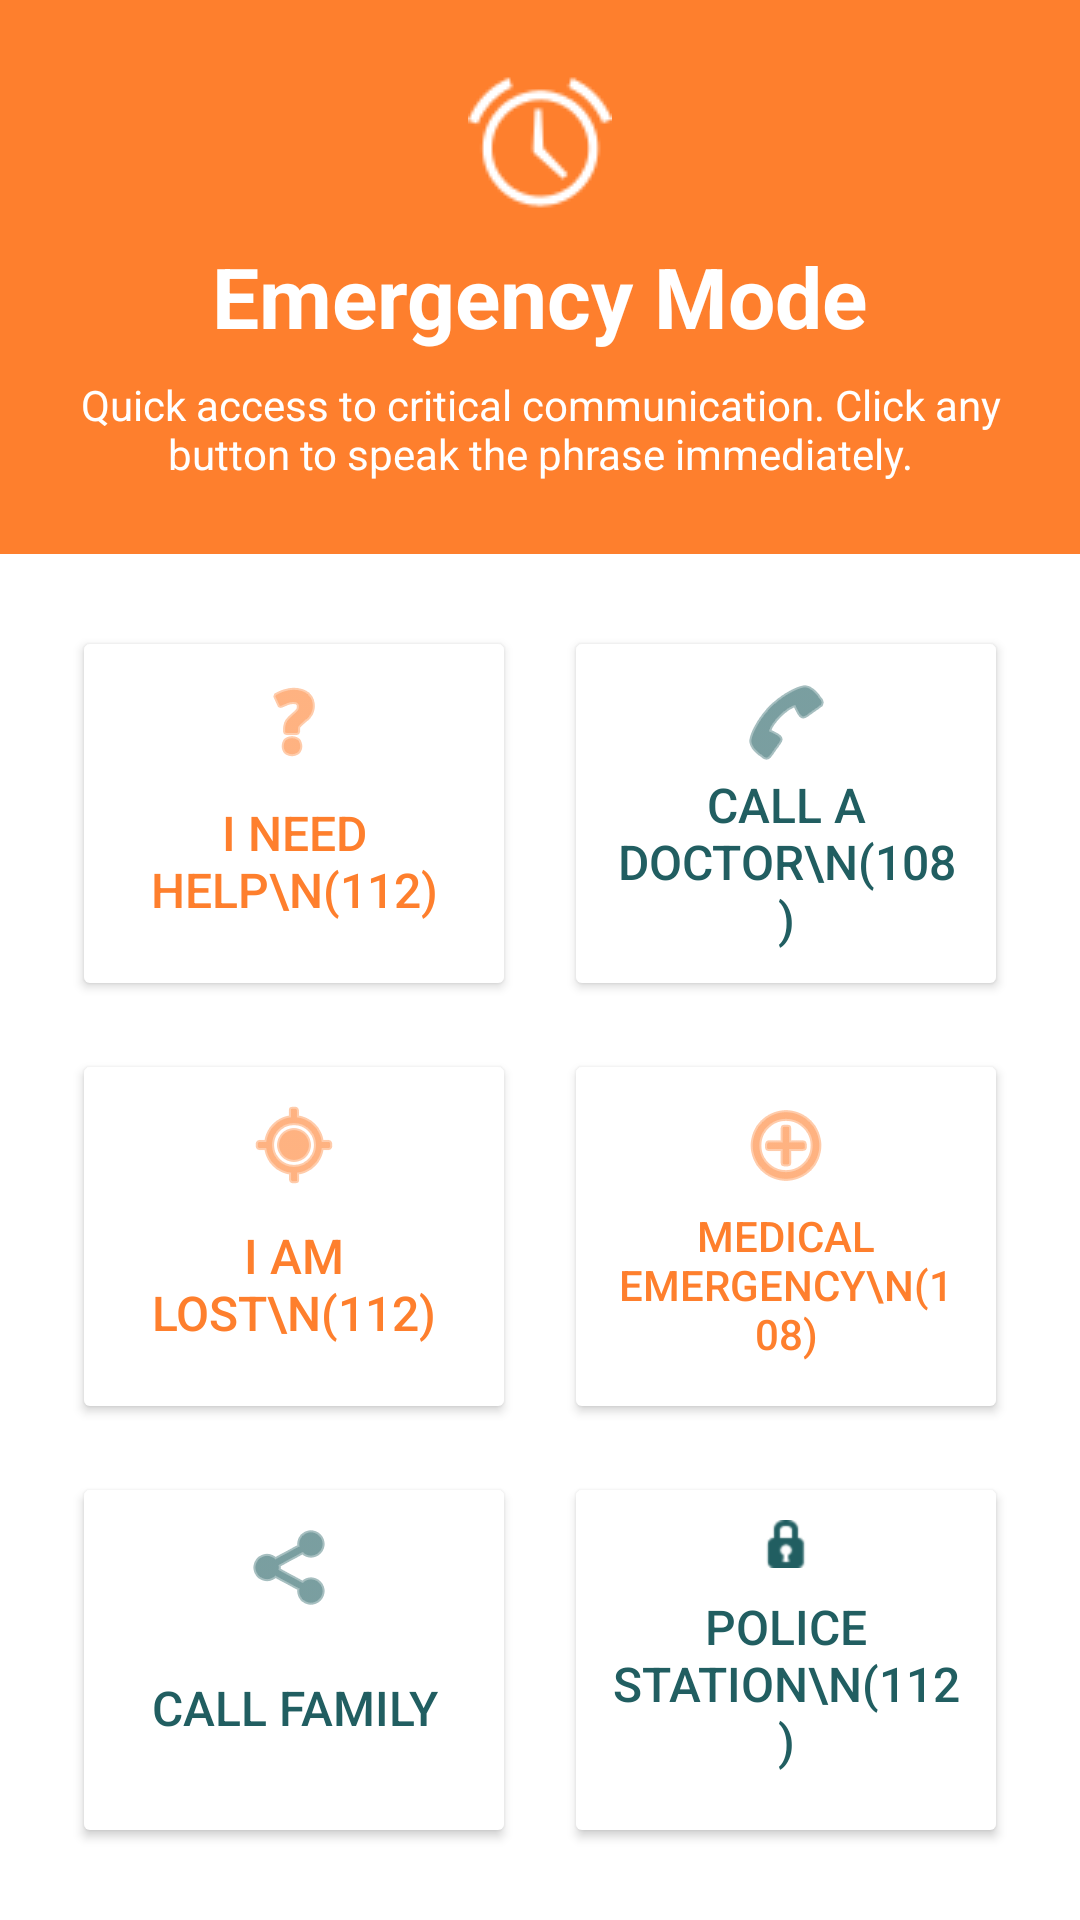

Locate icon controls on the screen. Image size 1080 x 1920, boxes as region(x1, y1, x2, y2).
lock idle alarm: region(468, 77, 612, 208)
